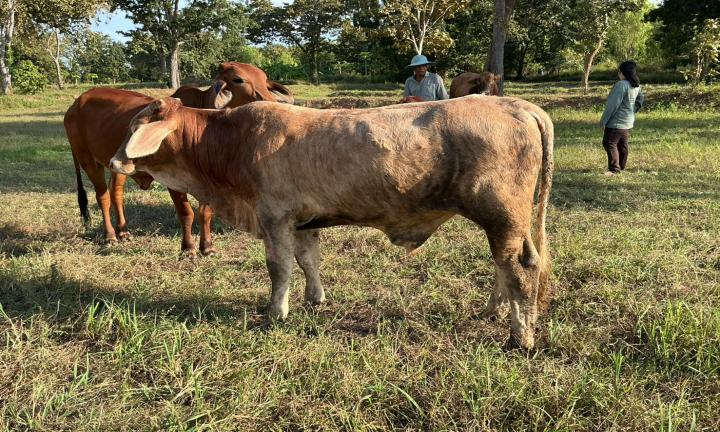Charolais: (110, 95, 553, 348)
